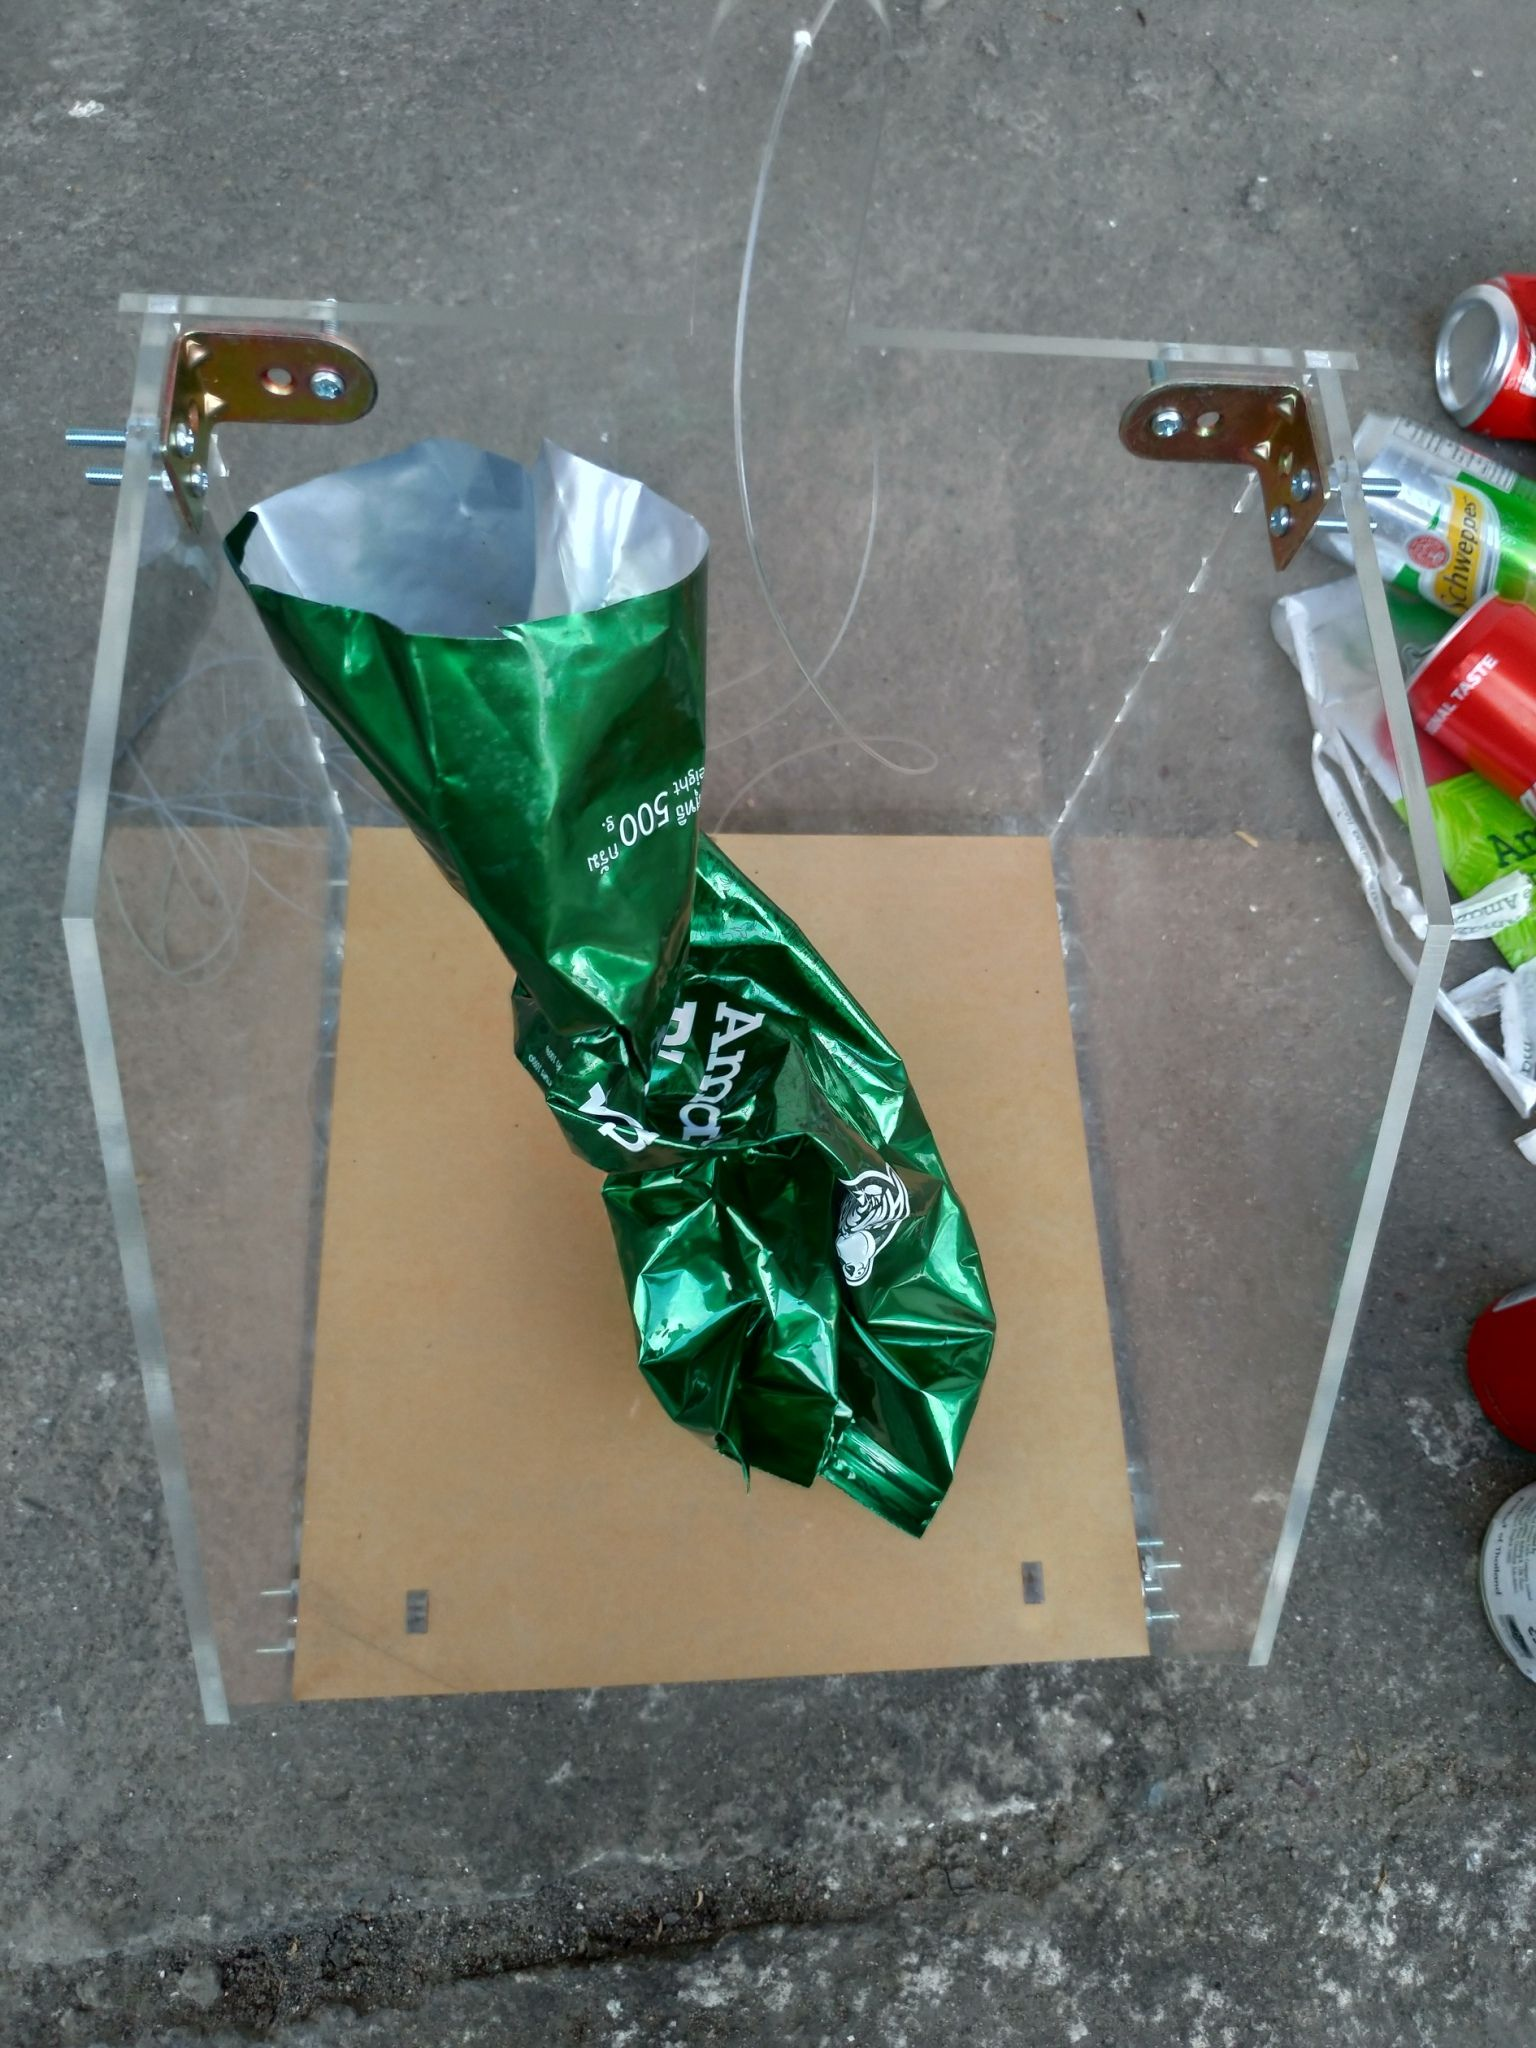AlCan: (1320, 410, 1536, 626), (1383, 572, 1536, 798), (1430, 263, 1536, 427)
Others: (232, 414, 984, 1534)
